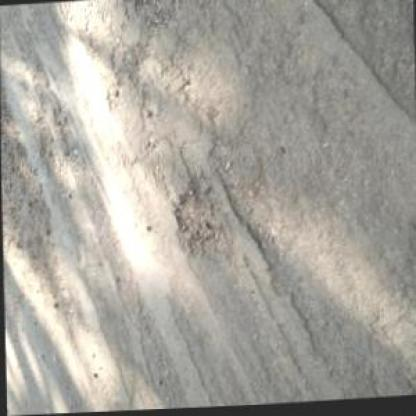pothole: (171, 175, 219, 258)
